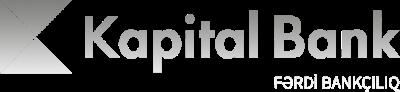Kapital Bank: (1, 0, 75, 74)
